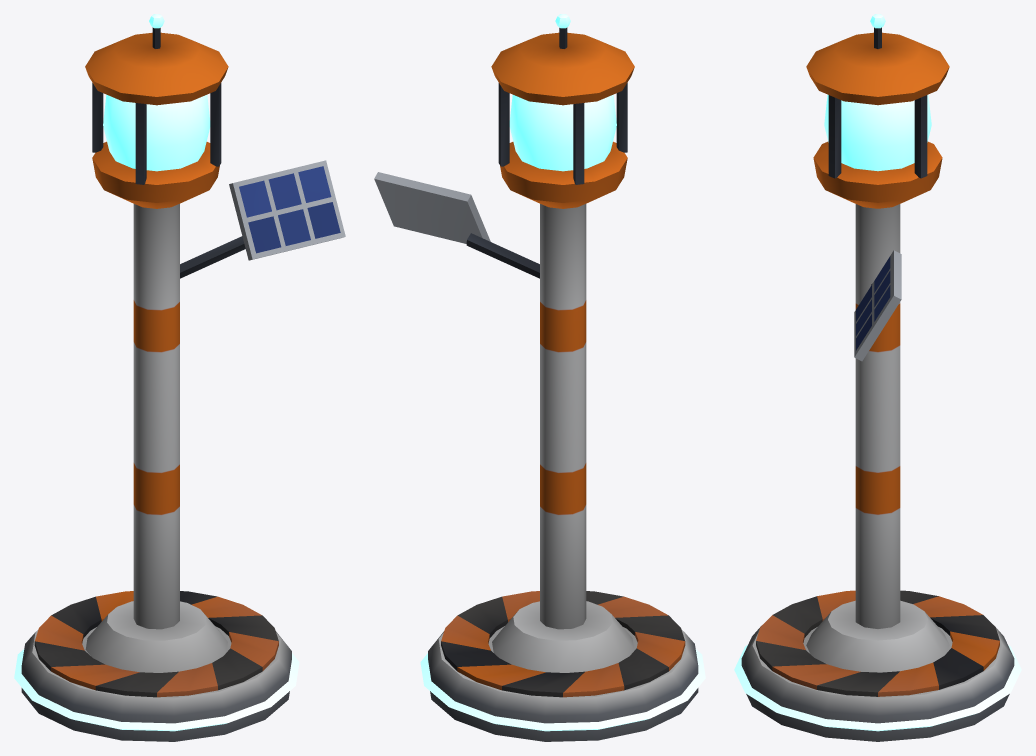
File: beacon_light.glb
3 renders of one model, left to right at view 1: azimuth 30°, elevation 25°; view 2: azimuth 150°, elevation 25°; view 3: azimuth 270°, elevation 25°, orthographic.
Visible parts, largest first — view 1: beacon_light; view 2: beacon_light; view 3: beacon_light.
Boxes of the visible parts, box(x1,y1,x2,y2) form: beacon_light: box(14, 14, 345, 741); beacon_light: box(374, 14, 705, 741); beacon_light: box(734, 14, 1021, 741).
Size of the model in its own units: 0.971 by 2.06 by 0.802.
